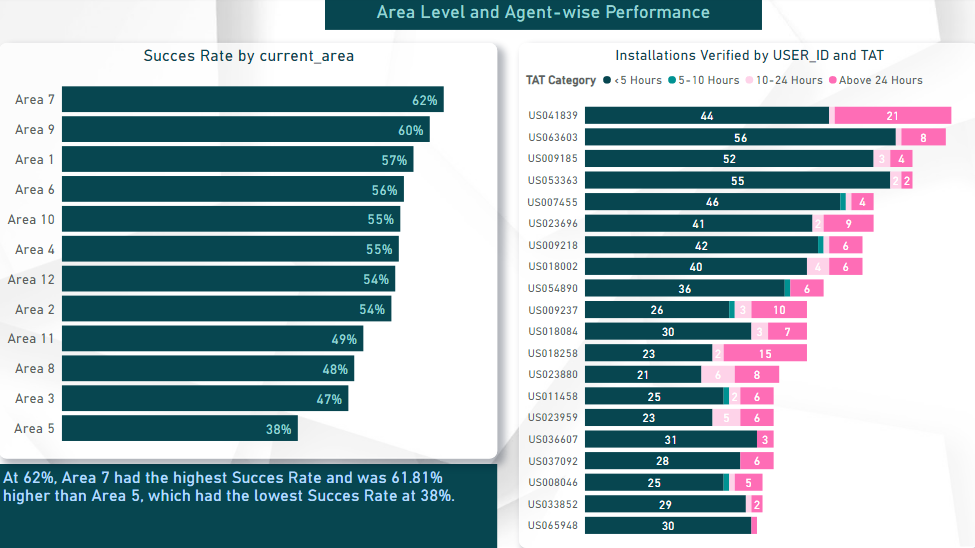

The dashboard page shown, as its layout file describes it:
{"tool":"powerbi","page":{"name":"Page 3","canvas":[1280,720],"ordinal":2},"visuals":[{"type":"textbox","box":[0,609.7,651,110.3],"z":0},{"type":"barChart","title":"Installations Verified by USER_ID and TAT","fields":{"Category":["data.USER_ID"],"Y":["PA_PE_Exercises_SalesDataDump.Installations Verified"],"Series":["Min Date Table.TAT Category"]},"box":[679.5,60.1,601.1,659.9],"z":1000},{"type":"textbox","box":[426.2,0,571,42.8],"z":3000},{"type":"barChart","fields":{"Category":["data.current_area"],"Y":["PA_PE_Exercises_SalesDataDump.Succes Rate"]},"box":[0,60.7,651,543.4],"z":4000}]}

Visuals, with their boxes in screenshot pixels (x1, y1, x2, y2), scaled from the page's 1280x720 canvas onto the 975x548 screenshot:
textbox: (x1=0, y1=464, x2=496, y2=547)
"Installations Verified by USER_ID and TAT" barChart: (x1=518, y1=46, x2=974, y2=547)
textbox: (x1=325, y1=0, x2=760, y2=33)
barChart - data.current_area x PA_PE_Exercises_SalesDataDump.Succes Rate: (x1=0, y1=46, x2=496, y2=460)
